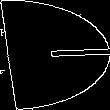L_W: (5, 38, 105, 72)
